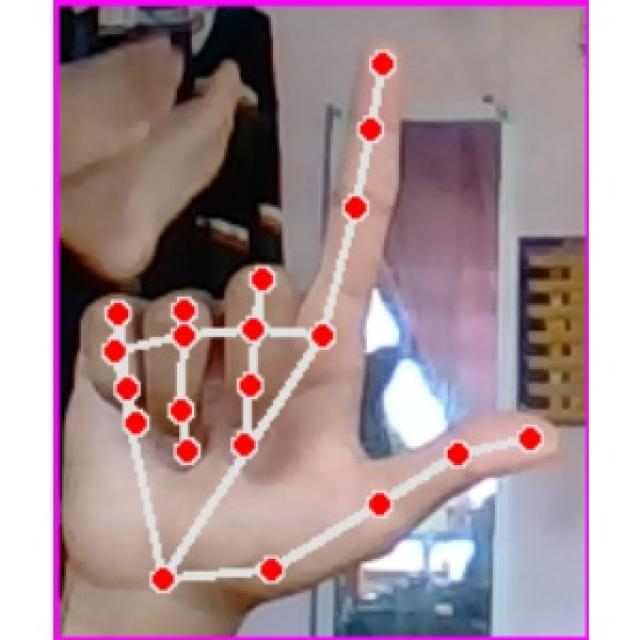L: (69, 31, 568, 606)
